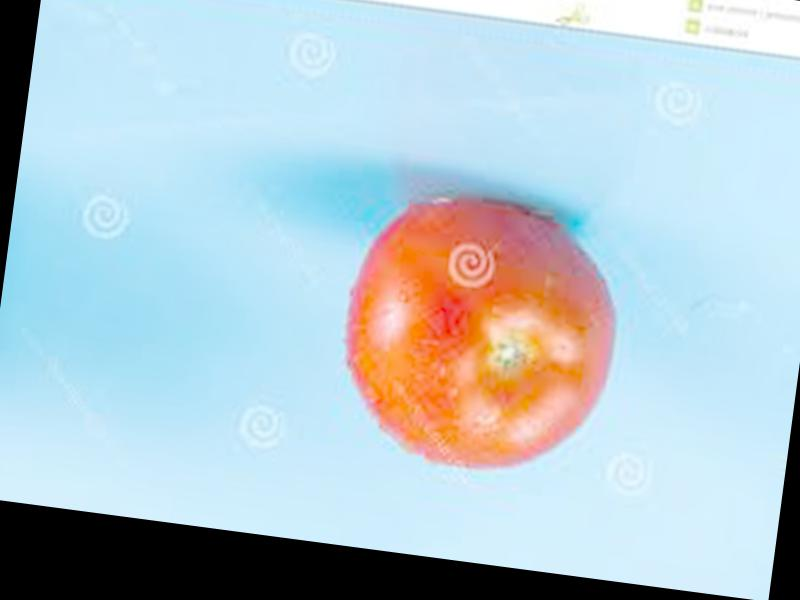Tomato: (329, 187, 634, 484)
